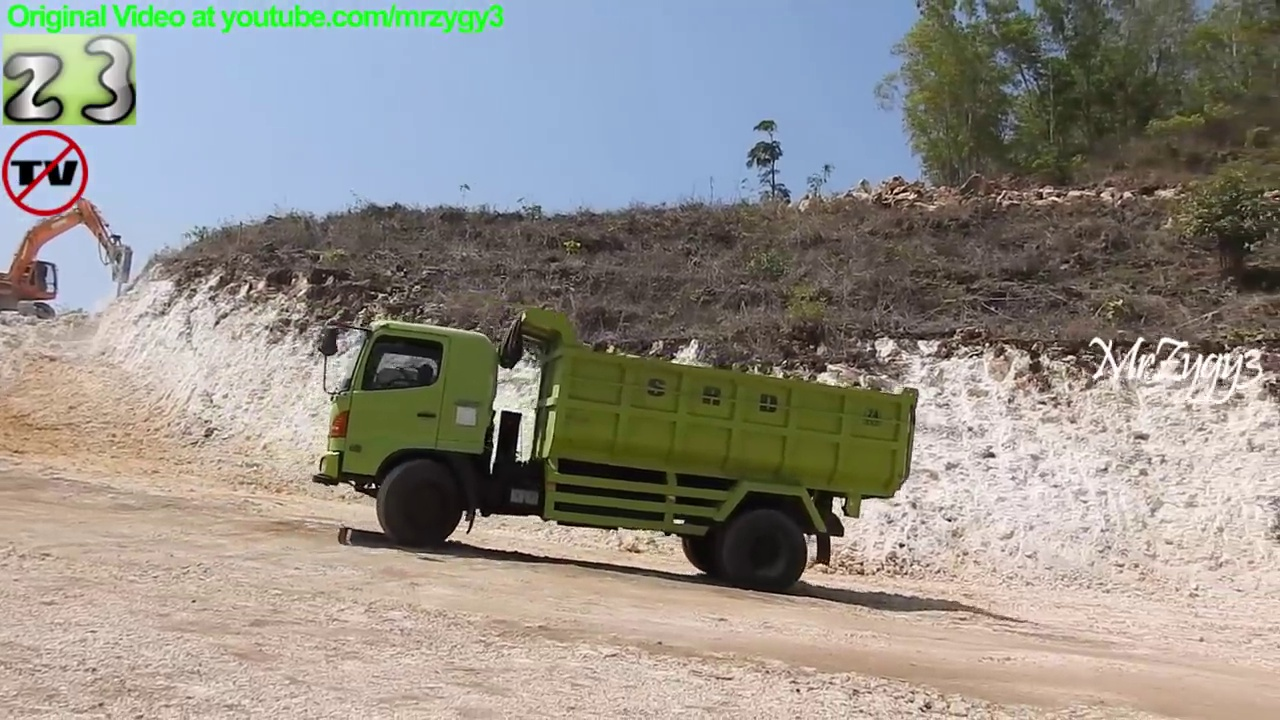truck: (305, 300, 929, 596), (1, 193, 140, 326)
